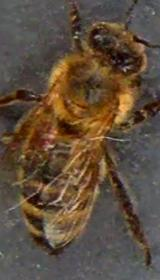varroa_mite: (21, 118, 60, 160)
